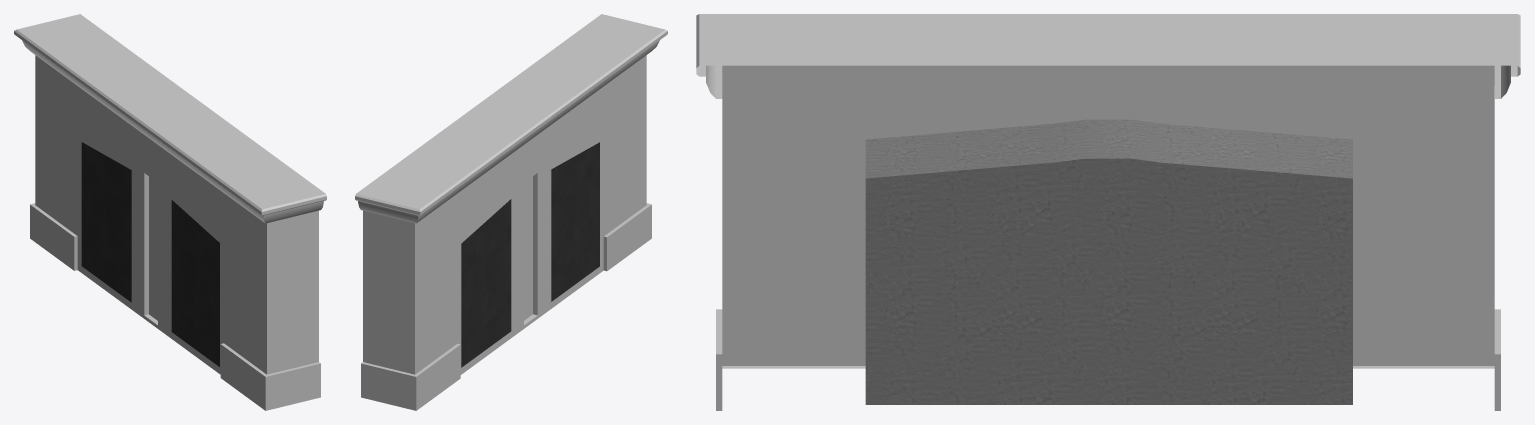
The model's file is SM_Radiator_1.fbx.
3 views of the same model, side by side, from view 1: azimuth 30°, elevation 25°; view 2: azimuth 150°, elevation 25°; view 3: azimuth 270°, elevation 25° (orthographic). The views are drawn at different scales.
Parts seen in each view (by area): view 1: SM_Radiator_1; view 2: SM_Radiator_1; view 3: SM_Radiator_1.
Part boxes in pixels (bbox=[...]): SM_Radiator_1: bbox=[14, 14, 326, 410]; SM_Radiator_1: bbox=[355, 14, 667, 410]; SM_Radiator_1: bbox=[696, 14, 1520, 410].
Size of the model in its own units: 39.48 by 259 by 120.
